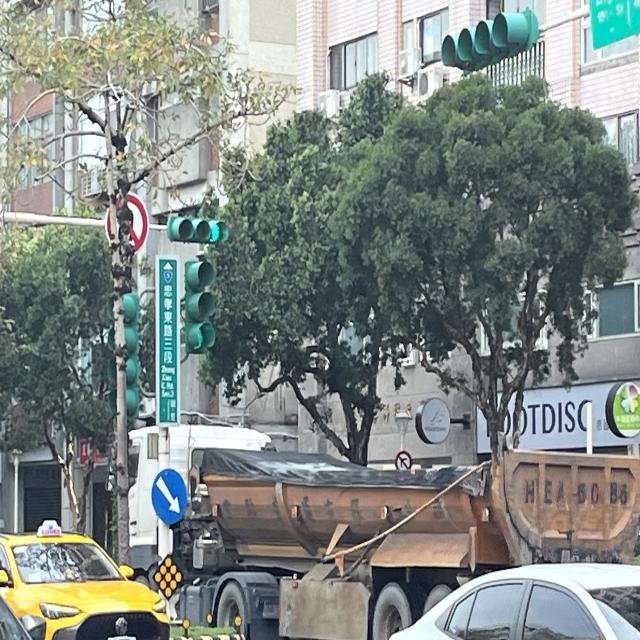green light: (184, 260, 213, 354), (171, 219, 231, 244)
